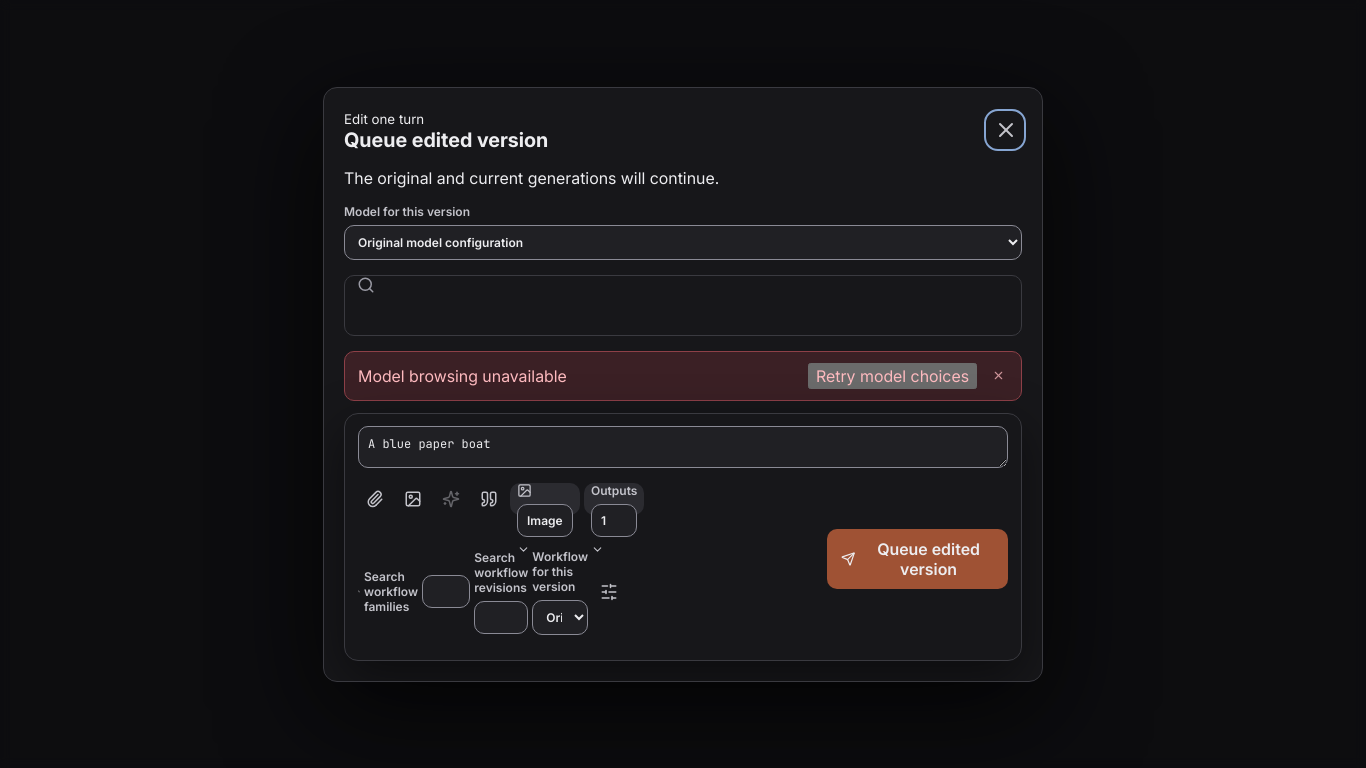
Test: resolves the current default separately when model browsing is unavailable
Expected: the text box named "Message" is shown, [358,426,1008,468]
Expected: the button "Retry model choices" is shown, [808,362,977,388]
Select "Current default" in the dropdown labelled "Model for this version" at {"x": 683, "y": 242}, box [344,224,1022,260]
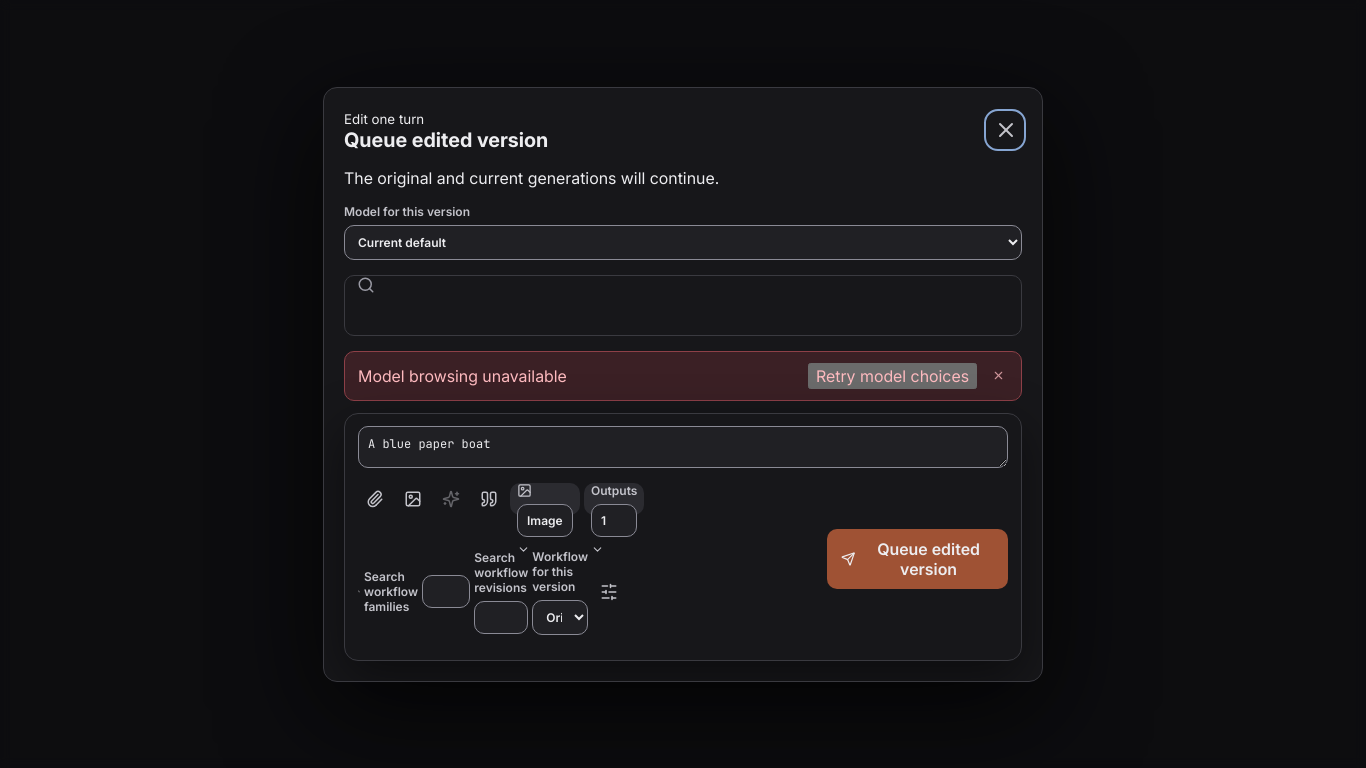
Click the button "Queue edited version" at {"x": 917, "y": 558}, box [827,528,1008,588]
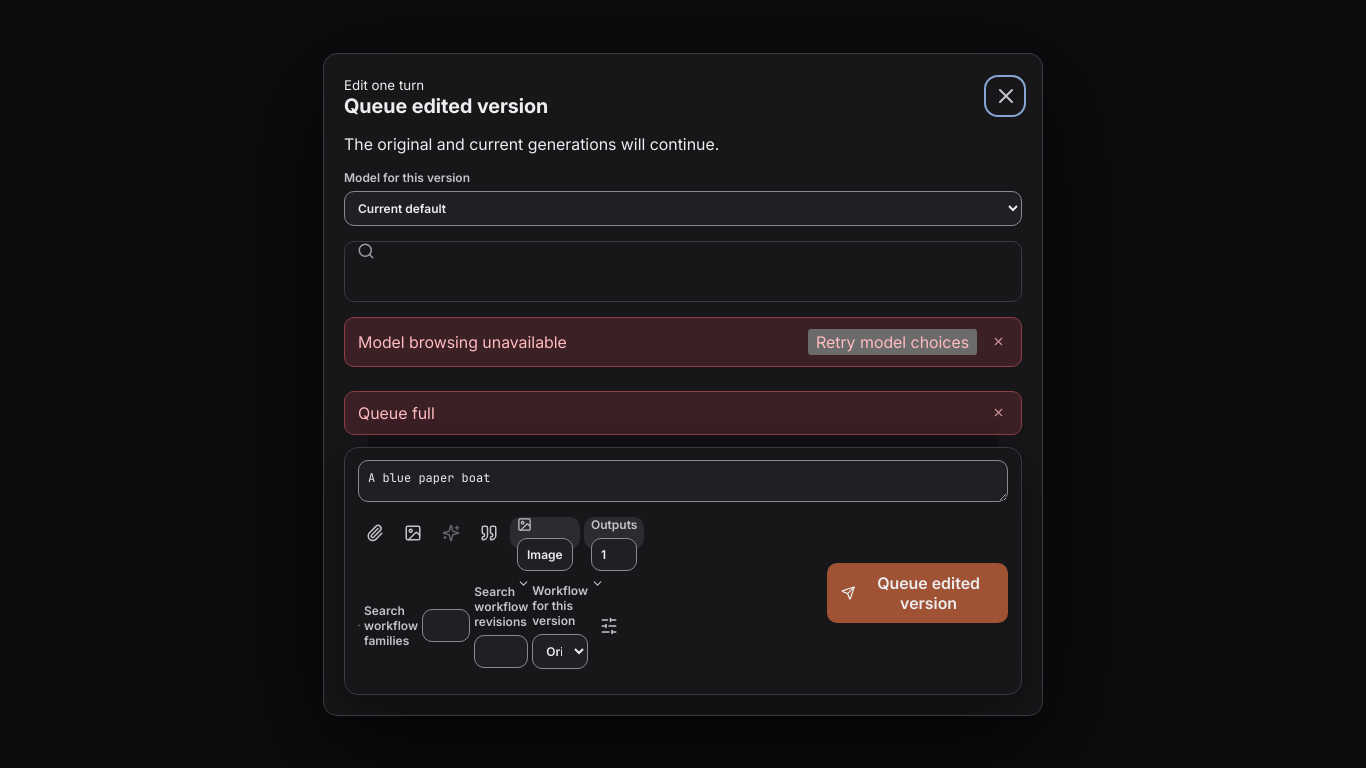
Result: the text "Queue full" is shown at [358,402,435,422]
